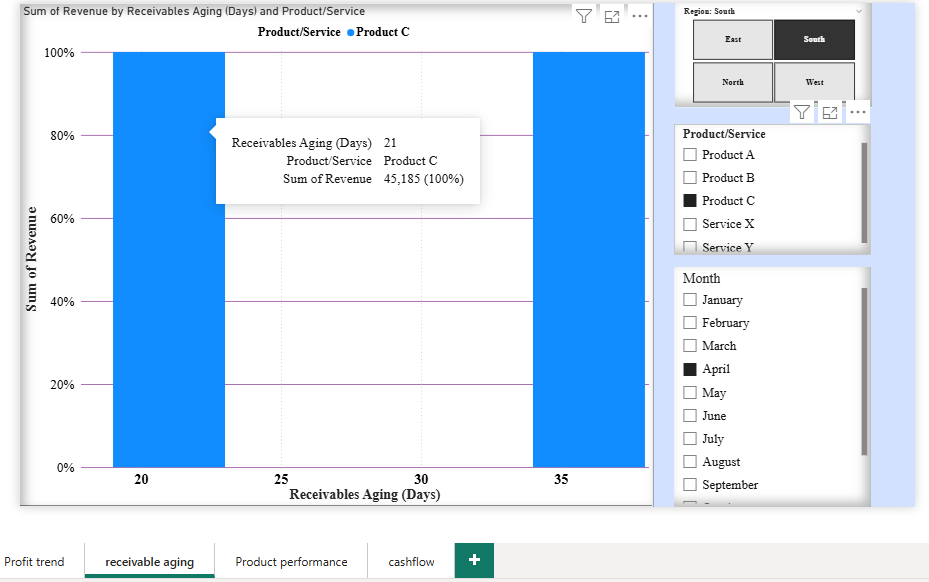

This screenshot's page, from the dashboard's own definition file:
{"tool":"powerbi","page":{"name":"receivable aging","canvas":[1280,720],"ordinal":1},"visuals":[{"type":"hundredPercentStackedColumnChart","fields":{"Category":["Data.Receivables Aging (Days)"],"Y":["Sum(Data.Revenue)"],"Series":["Data.Product/Service"]},"box":[0,0,905.6,719.4],"z":0},{"type":"slicer","fields":{"Values":["Data.Month.Variation.Date Hierarchy.Month"]},"box":[936,377.3,280.8,342.7],"z":1000},{"type":"slicer","fields":{"Values":["Data.Region"]},"box":[937.5,0,280.6,148.6],"z":2000},{"type":"slicer","fields":{"Values":["Data.Product/Service"]},"box":[936,172.8,280.8,187.2],"z":3000}]}

Visuals, with their boxes on the page's 1280x720 design canvas (x1, y1, x2, y2). These are canvas units, not pixel positions in the 929x582 screenshot, which may show the page scaled, cropped or inside an application window:
hundredPercentStackedColumnChart - Data.Receivables Aging (Days) x Sum(Data.Revenue): pyautogui.locateOnScreen(0, 0, 906, 719)
slicer - Data.Month.Variation.Date Hierarchy.Month: pyautogui.locateOnScreen(936, 377, 1217, 720)
slicer - Data.Region: pyautogui.locateOnScreen(938, 0, 1218, 149)
slicer - Data.Product/Service: pyautogui.locateOnScreen(936, 173, 1217, 360)
